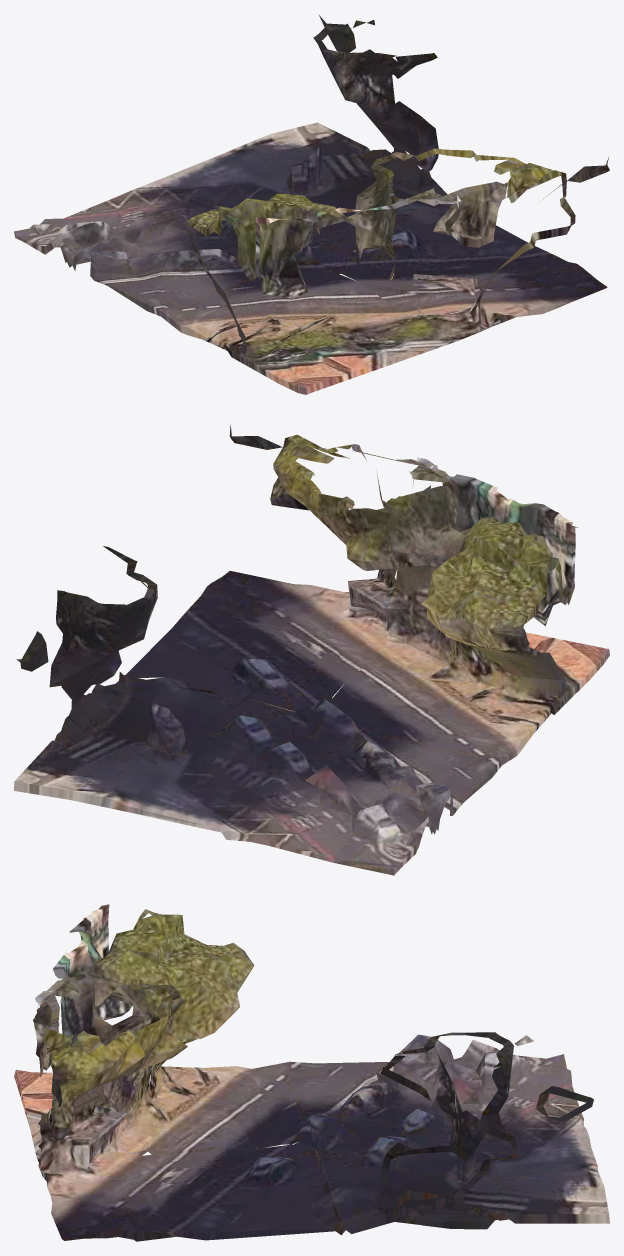
The picture shows the model from 3 angles, top to bottom: view 1: azimuth 30°, elevation 25°; view 2: azimuth 150°, elevation 25°; view 3: azimuth 270°, elevation 25°; orthographic projection. The views are drawn at different scales.
Parts seen in each view (by area): view 1: Mesh_0; view 2: Mesh_0; view 3: Mesh_0.
Boxes of the visible parts, x1,y1,x2,y2 form: Mesh_0: (14,14,609,394); Mesh_0: (14,425,609,875); Mesh_0: (14,904,609,1241).
Bounding box in the file's own units: 33.34 × 13.92 × 41.09.
Materials: 1 (1 with a texture image).
